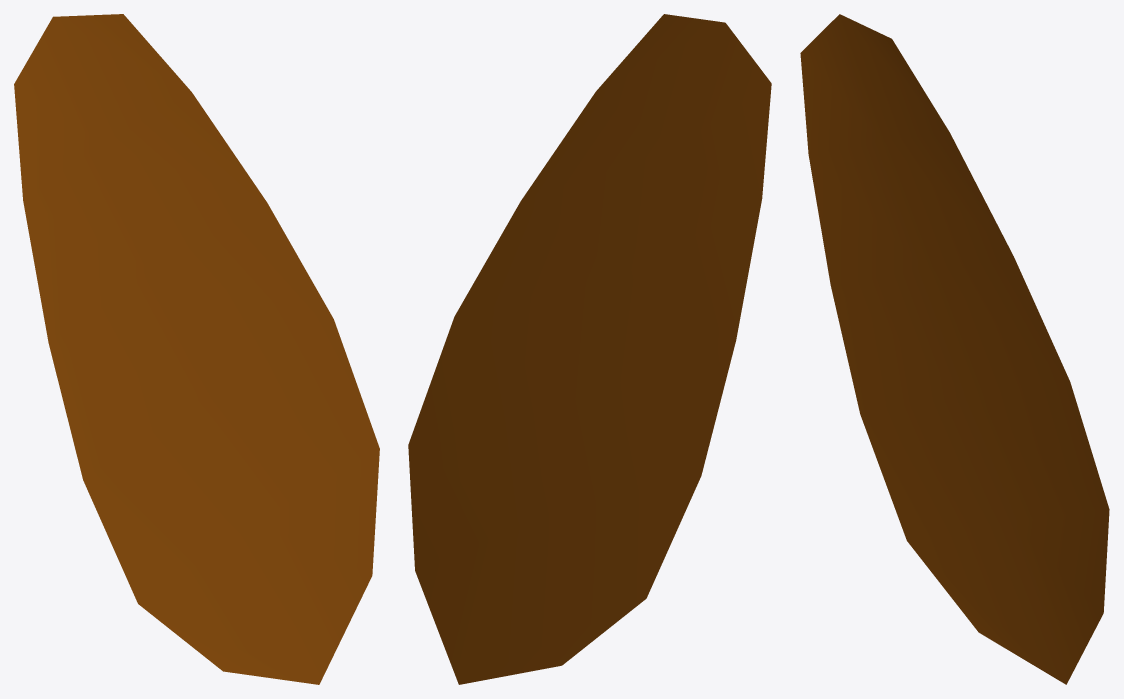
File: ara_feather_flight_secondary_026.obj
The picture shows the model from 3 angles, left to right: view 1: azimuth 30°, elevation 25°; view 2: azimuth 150°, elevation 25°; view 3: azimuth 330°, elevation 25°; orthographic projection. The views are drawn at different scales.
Visible parts, largest first — view 1: feather_flight_secondary_026; view 2: feather_flight_secondary_026; view 3: feather_flight_secondary_026.
Boxes of the visible parts, x1,y1,x2,y2 form: feather_flight_secondary_026: (14, 14, 379, 684); feather_flight_secondary_026: (408, 14, 771, 684); feather_flight_secondary_026: (800, 14, 1109, 684).
Size of the model in its own units: 0.0379 by 0.0725 by 0.00105.
